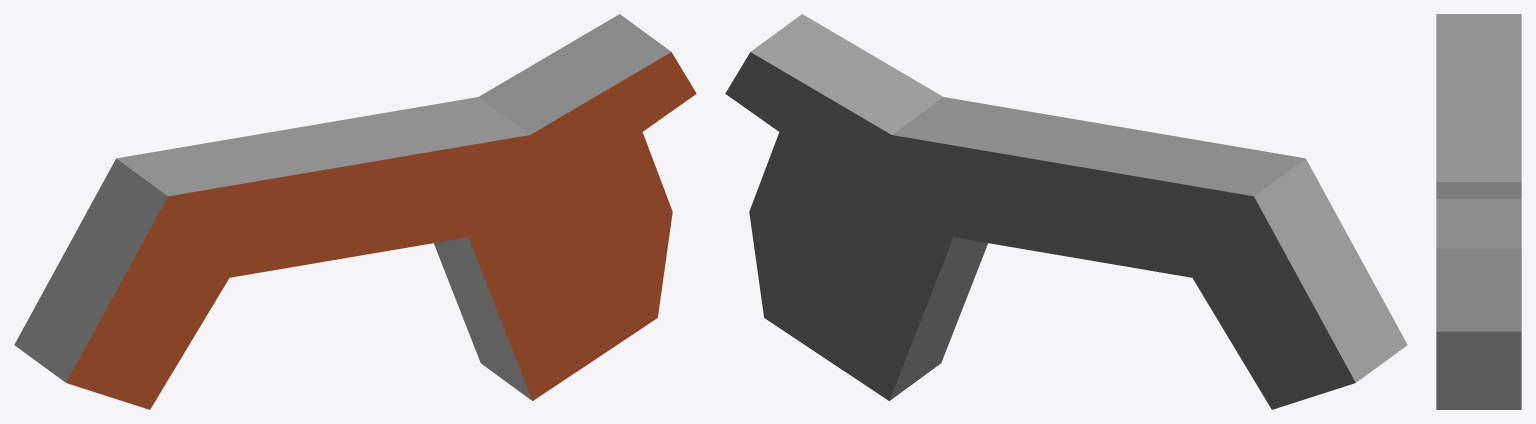
The model's file is construction_5012_assumed_A_Casa_h6m.obj.
3 renders of one model, left to right at view 1: azimuth 30°, elevation 25°; view 2: azimuth 150°, elevation 25°; view 3: azimuth 270°, elevation 25°, orthographic. The views are drawn at different scales.
Parts seen in each view (by area): view 1: construction_5012_assumed_A_Casa; view 2: construction_5012_assumed_A_Casa; view 3: construction_5012_assumed_A_Casa.
Boxes of the visible parts, x1=… form: construction_5012_assumed_A_Casa: x1=14, y1=14, x2=696, y2=409; construction_5012_assumed_A_Casa: x1=725, y1=14, x2=1407, y2=409; construction_5012_assumed_A_Casa: x1=1436, y1=14, x2=1521, y2=409.
Size of the model in its own units: 42.11 by 20.12 by 6.
